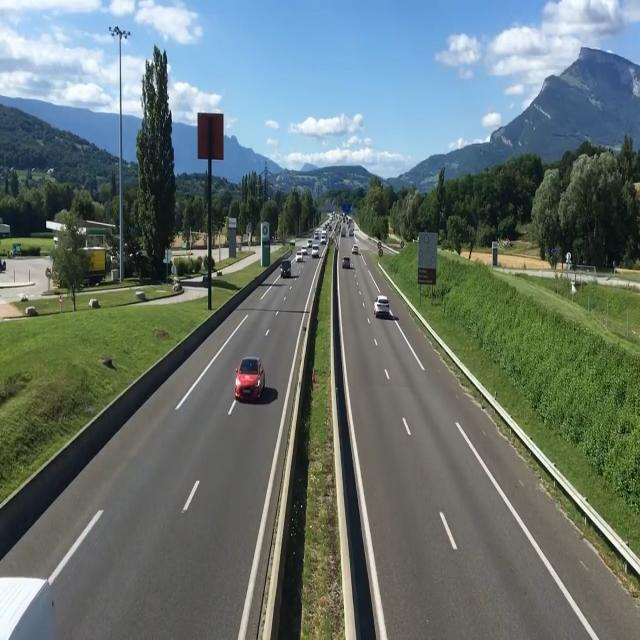car: (233, 352, 268, 408), (371, 291, 393, 330), (280, 256, 294, 279), (310, 239, 322, 259)
